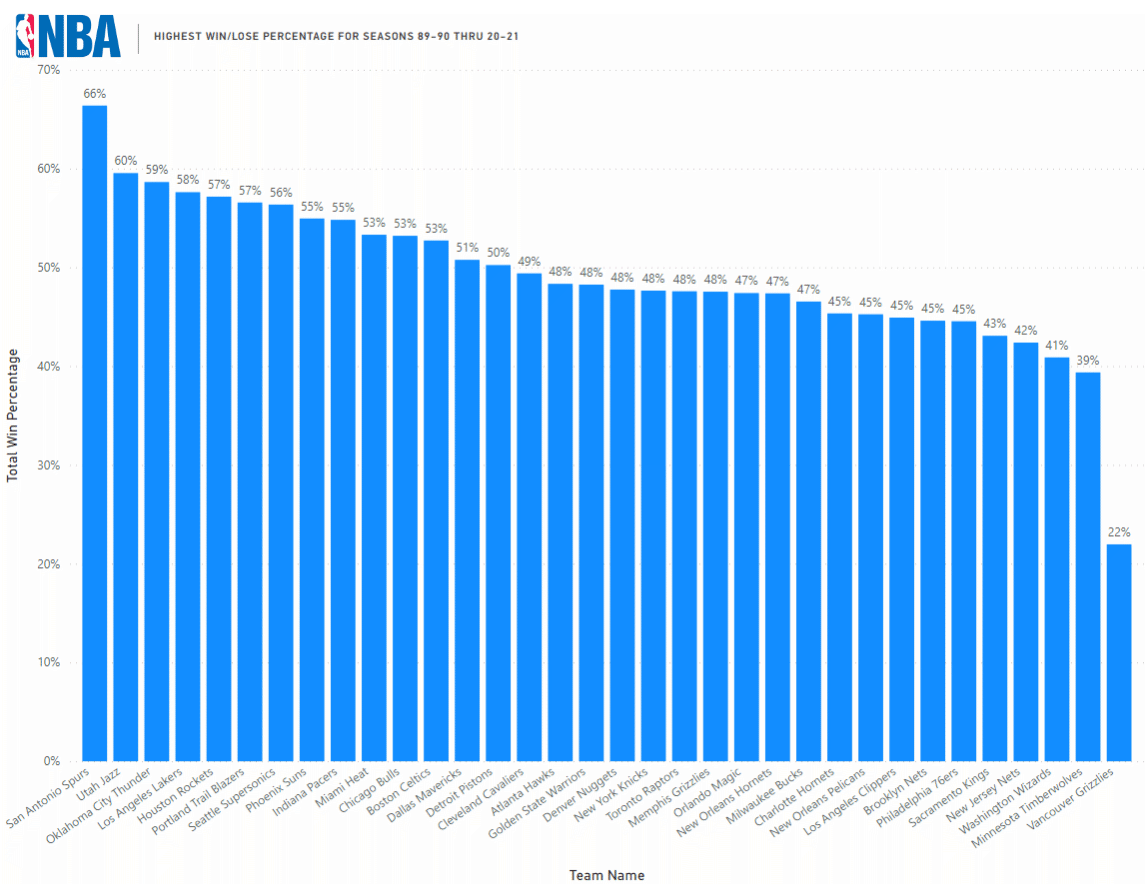

The page's visual inventory and layout, read from the dashboard file:
{"tool":"powerbi","page":{"name":"Win/Lose Percentage","canvas":[1280,720],"ordinal":0},"visuals":[{"type":"columnChart","title":"Highest Win/Lose Percentage for Seasons 89-90 thru 20-21","fields":{"Category":["season_stats.Team_Name"],"Y":["season_stats.Total Win Percentage"]},"box":[10,0,1270,719.5],"z":0}]}

Visuals, with their boxes on the page's 1280x720 design canvas (x1, y1, x2, y2). These are canvas units, not pixel positions in the 1145x884 screenshot, which may show the page scaled, cropped or inside an application window:
"Highest Win/Lose Percentage for Seasons 89-90 thru 20-21" columnChart: detection(10, 0, 1280, 720)
